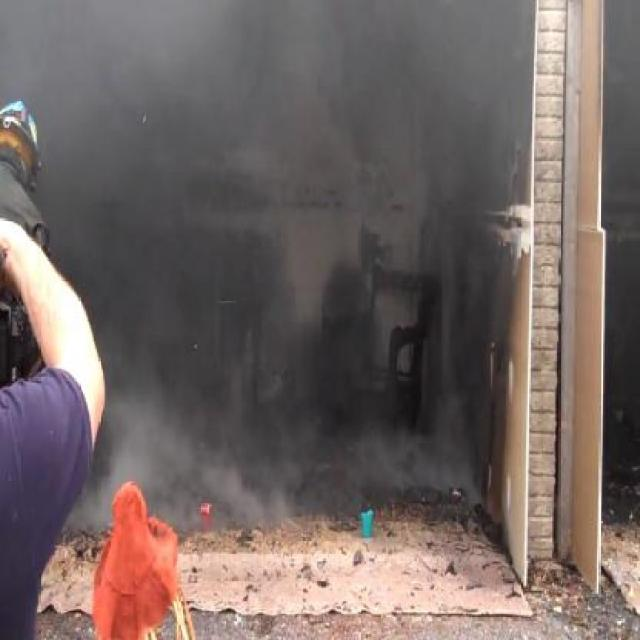smoke: (15, 29, 542, 568)
